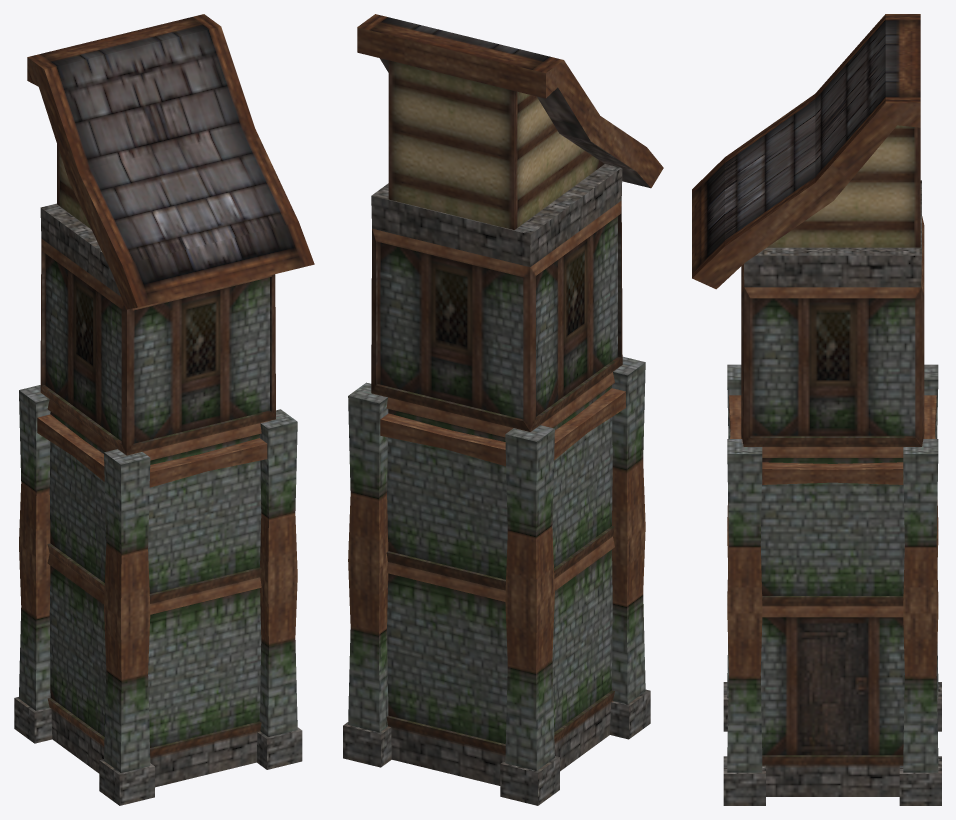
Rendered from House.gltf.
The picture shows the model from 3 angles, left to right: view 1: azimuth 30°, elevation 25°; view 2: azimuth 150°, elevation 25°; view 3: azimuth 270°, elevation 25°; orthographic projection. The views are drawn at different scales.
Parts seen in each view (by area): view 1: MVK_House_04; view 2: MVK_House_04; view 3: MVK_House_04.
Boxes of the visible parts, left/top/right/bottom form: MVK_House_04: left=14, top=14, right=314, bottom=805; MVK_House_04: left=343, top=14, right=663, bottom=805; MVK_House_04: left=692, top=14, right=941, bottom=805.
Size of the model in its own units: 1.24 by 4.4 by 1.42.
Materials: 1 (1 with a texture image).
